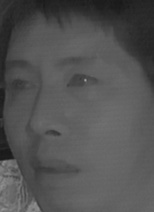eye: (65, 68, 103, 93), (9, 73, 38, 93)
mouth: (27, 153, 82, 186)
